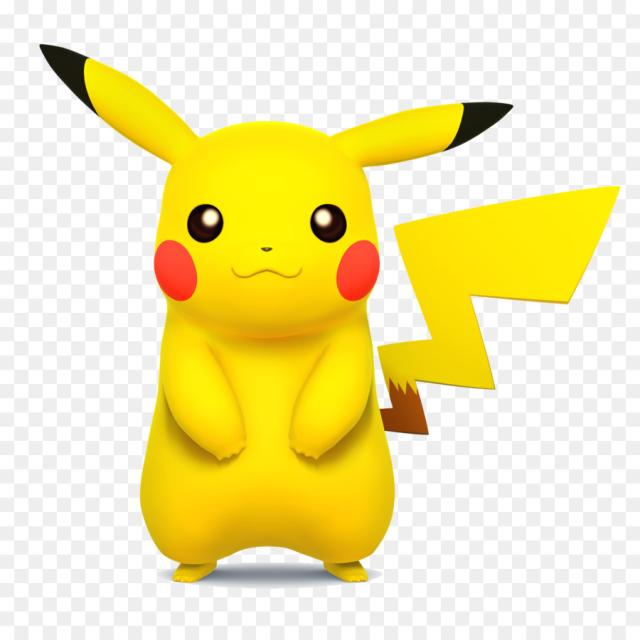Pikachu: (134, 112, 426, 590)
